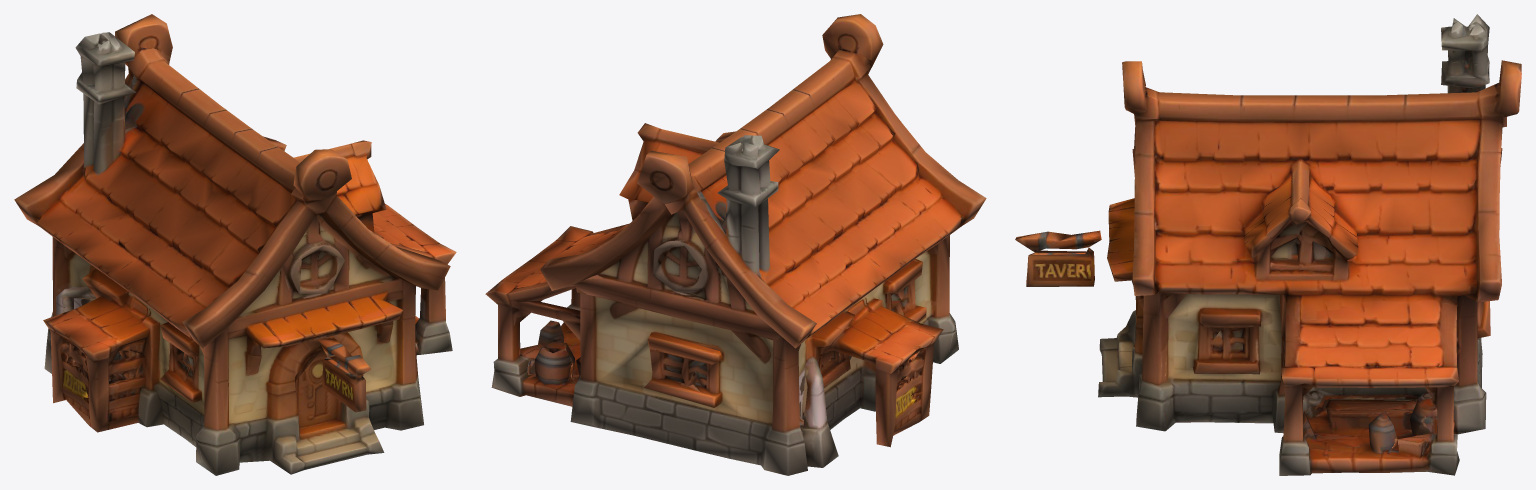
File: Tavern.glb
The picture shows the model from 3 angles, left to right: view 1: azimuth 30°, elevation 25°; view 2: azimuth 150°, elevation 25°; view 3: azimuth 270°, elevation 25°; orthographic projection. The views are drawn at different scales.
Visible parts, largest first — view 1: Mesh1.0; view 2: Mesh1.0; view 3: Mesh1.0.
Part boxes in pixels (left/top/right/bottom): Mesh1.0: left=14, top=14, right=456, bottom=475; Mesh1.0: left=485, top=14, right=986, bottom=475; Mesh1.0: left=1015, top=14, right=1521, bottom=475.
Size of the model in its own units: 1.67 by 1.35 by 1.92.
Materials: 1 (1 with a texture image).
